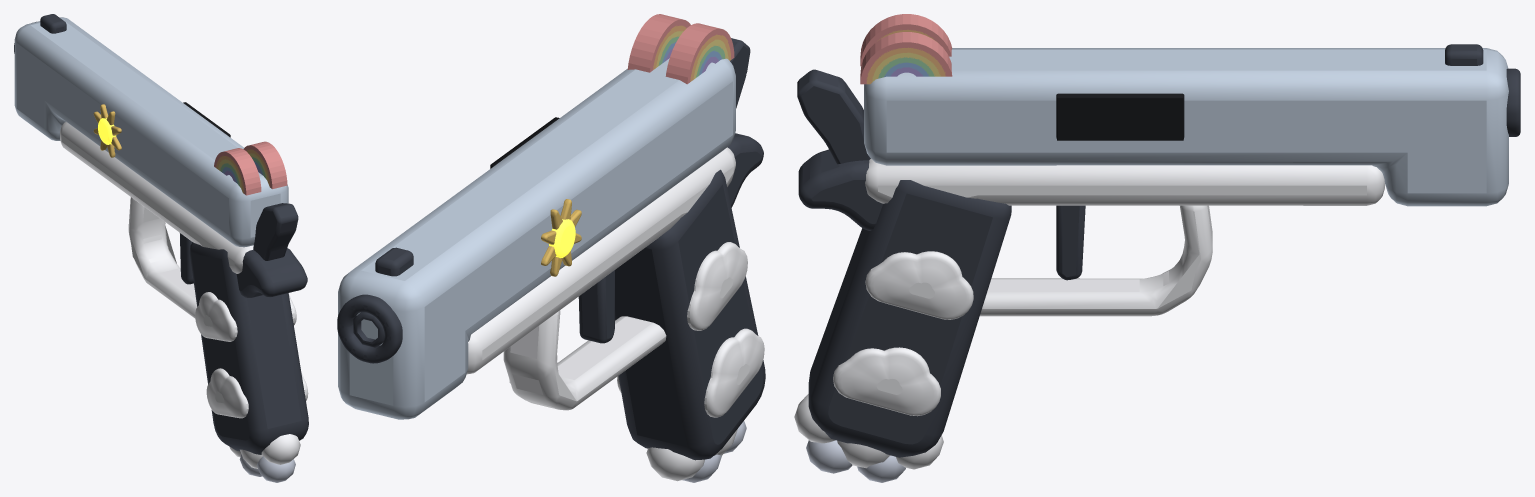
File: w_pistol@pistol_cute_e.glb
3 renders of one model, left to right at view 1: azimuth 30°, elevation 25°; view 2: azimuth 150°, elevation 25°; view 3: azimuth 270°, elevation 25°, orthographic. The views are drawn at different scales.
Visible parts, largest first — view 1: slide_wzA, grip_wzB, body_wzA, grip_wzA, hammer_wzN, slide_wzN.002, mag_wzN, mag_wzN.001, slide_wzN.009, body_wzN, slide_wzN.001, slide_wzN.008; view 2: slide_wzA, grip_wzB, body_wzA, grip_wzA, slide_wzN.001, slide_wzN.002, body_wzN, mag_wzN, slide_wzN.009, hammer_wzN, mag_wzN.001, slide_wzN.008 (+3 smaller); view 3: slide_wzA, grip_wzB, body_wzA, grip_wzA, slide_wzN, hammer_wzN, slide_wzN.002, mag_wzN, body_wzN, mag_wzN.001, slide_wzN.001, slide_wzN.003.
Boxes of the visible parts, box(x1,y1,x2,y2) form: slide_wzA: box(14, 17, 288, 247); grip_wzB: box(189, 242, 308, 454); body_wzA: box(60, 122, 253, 318); grip_wzA: box(195, 292, 308, 418); hammer_wzN: box(253, 203, 298, 260); slide_wzN.002: box(214, 141, 287, 195); mag_wzN: box(229, 434, 300, 468); mag_wzN.001: box(239, 454, 295, 482); slide_wzN.009: box(93, 104, 121, 157); body_wzN: box(180, 233, 193, 284); slide_wzN.001: box(14, 14, 66, 53); slide_wzN.008: box(98, 118, 116, 144); slide_wzA: box(338, 58, 735, 419); grip_wzB: box(615, 133, 765, 460); body_wzA: box(466, 147, 735, 410); grip_wzA: box(617, 242, 764, 417); slide_wzN.001: box(337, 247, 413, 363); slide_wzN.002: box(627, 14, 734, 84); body_wzN: box(578, 270, 614, 343); mag_wzN: box(646, 429, 737, 481); slide_wzN.009: box(541, 199, 581, 276); hammer_wzN: box(730, 38, 750, 108); mag_wzN.001: box(682, 421, 746, 482); slide_wzN.008: box(549, 219, 575, 258); slide_wzA: box(864, 48, 1508, 206); grip_wzB: box(798, 149, 1011, 457); body_wzA: box(865, 159, 1384, 316); grip_wzA: box(833, 251, 973, 416); slide_wzN: box(1056, 93, 1184, 140); hammer_wzN: box(797, 69, 870, 164); slide_wzN.002: box(860, 14, 952, 84); mag_wzN: box(794, 394, 943, 469); body_wzN: box(1056, 205, 1085, 280); mag_wzN.001: box(806, 440, 905, 482); slide_wzN.001: box(1445, 44, 1520, 136); slide_wzN.003: box(866, 29, 945, 84).
Size of the model in its own units: 0.0564 by 0.2337 by 0.3402.
